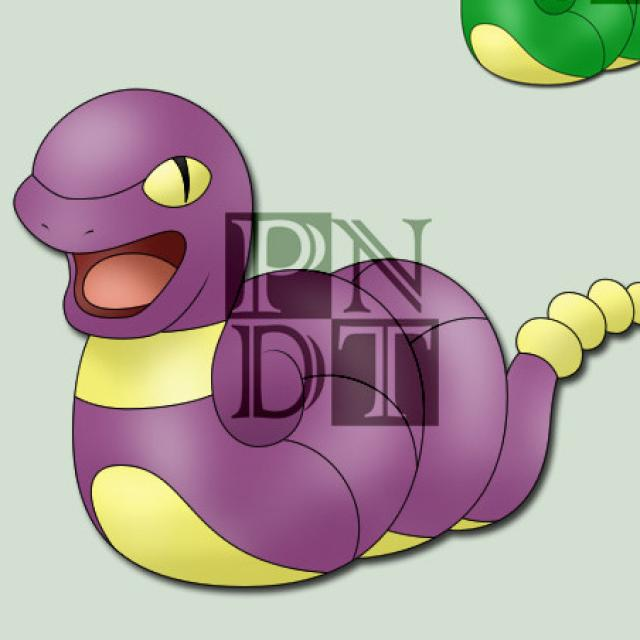Ekans: (5, 94, 515, 585)
